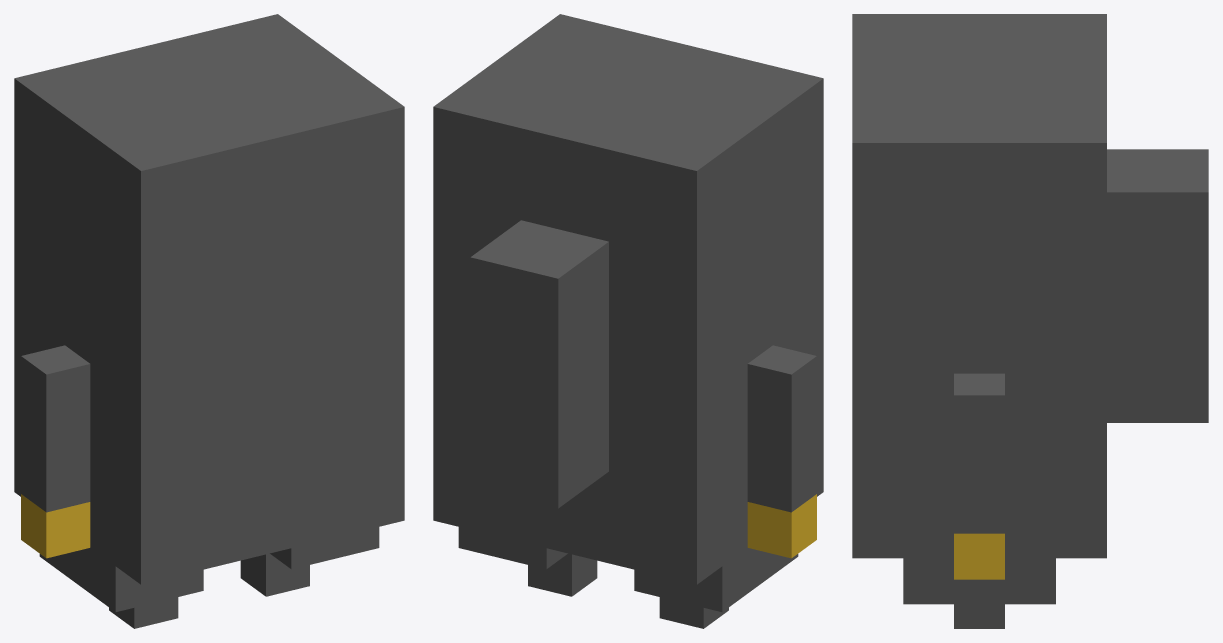
The model's file is chr_hazmat1.obj.
3 renders of one model, left to right at view 1: azimuth 30°, elevation 25°; view 2: azimuth 150°, elevation 25°; view 3: azimuth 270°, elevation 25°, orthographic.
Bounding box in the file's own units: 8 × 11 × 7.
